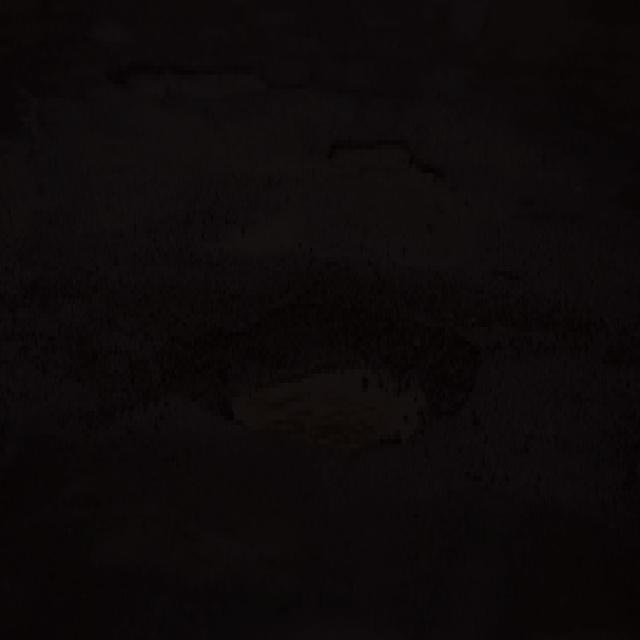Pothole: (152, 290, 493, 458), (116, 53, 293, 112), (317, 137, 458, 193)
